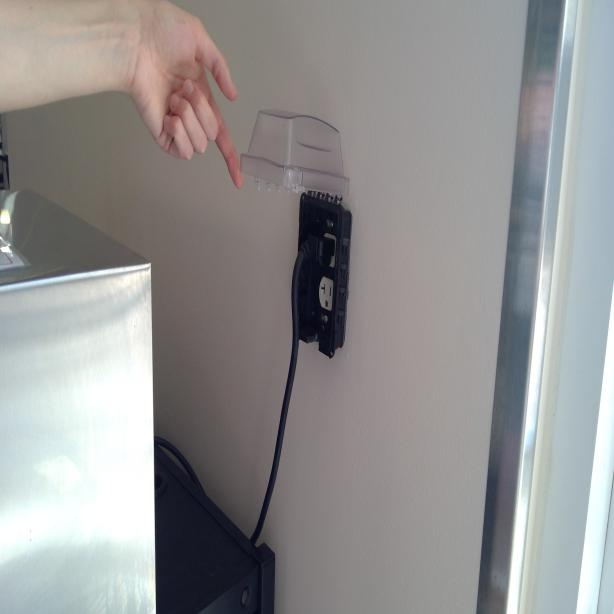typeb: (320, 275, 334, 309)
